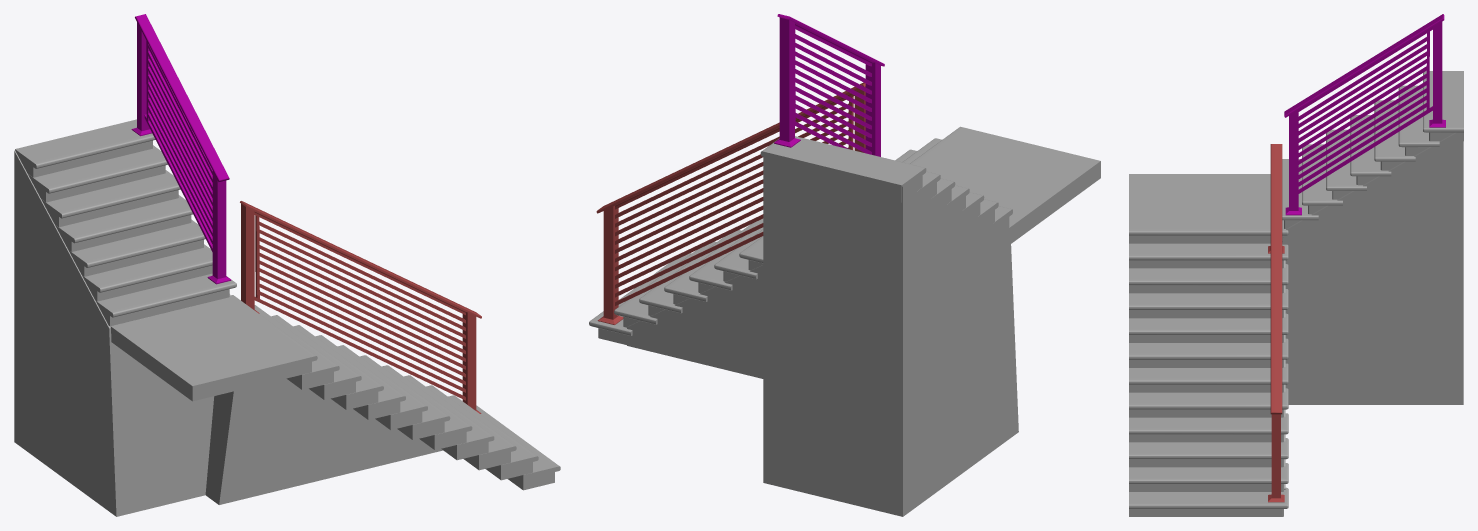
Rendered from barstairs_group.fbx.
3 renders of one model, left to right at view 1: azimuth 30°, elevation 25°; view 2: azimuth 150°, elevation 25°; view 3: azimuth 270°, elevation 25°, orthographic. The views are drawn at different scales.
Parts seen in each view (by area): view 1: stairs_main, stairs_lowerrailing, stairs_upperailing; view 2: stairs_main, stairs_lowerrailing, stairs_upperailing; view 3: stairs_main, stairs_upperailing, stairs_lowerrailing.
Part boxes in pixels (x1,y1,x2,y2): stairs_main: (14, 119, 560, 516); stairs_lowerrailing: (240, 201, 481, 413); stairs_upperailing: (131, 14, 231, 284); stairs_main: (589, 126, 1100, 516); stairs_lowerrailing: (596, 82, 865, 324); stairs_upperailing: (774, 14, 884, 156); stairs_main: (1129, 71, 1463, 516); stairs_upperailing: (1284, 14, 1445, 215); stairs_lowerrailing: (1268, 144, 1284, 502).
Bounding box in the file's own units: 10.04 × 10.55 × 8.3.
